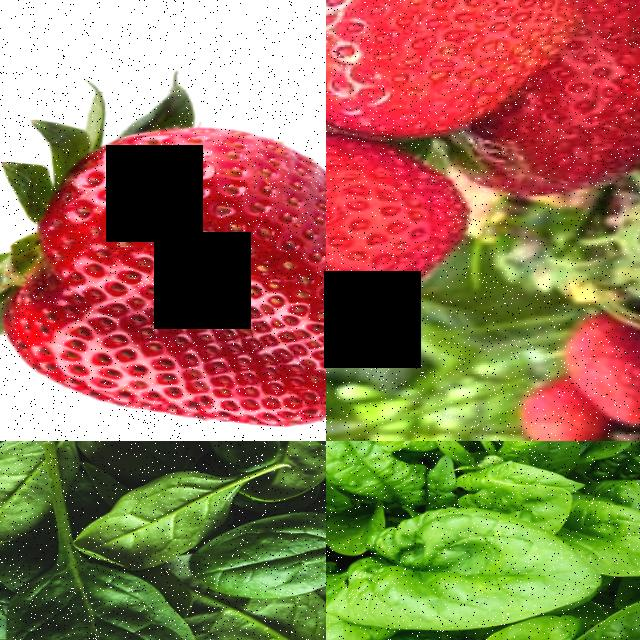spinach: (326, 506, 615, 632), (77, 472, 245, 568), (8, 569, 215, 640), (189, 509, 326, 599), (0, 441, 60, 543), (200, 598, 326, 640), (326, 441, 380, 503)
strawberry: (0, 92, 326, 438), (326, 135, 481, 328), (326, 0, 503, 132), (552, 0, 640, 188), (571, 326, 640, 398), (524, 380, 593, 441)
